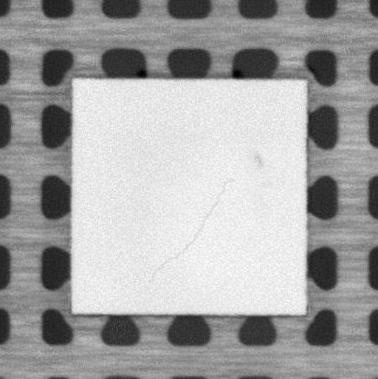DIE_CRACK: (153, 177, 233, 278)
